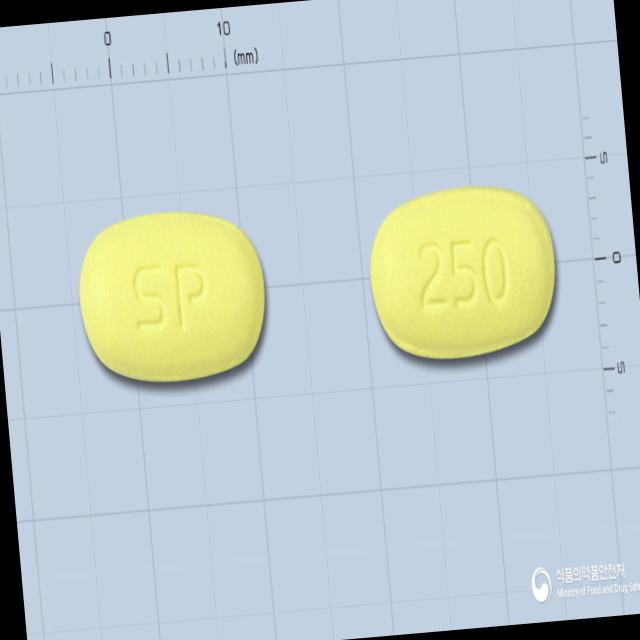Clocin Film Coated Tab: (364, 177, 564, 366), (71, 203, 272, 391)
